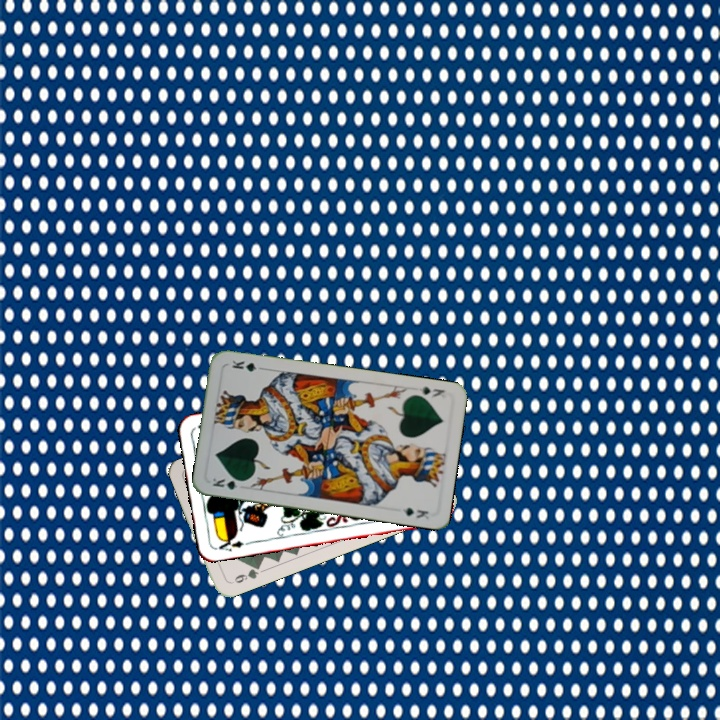EA: (215, 533, 246, 554)
G9: (226, 561, 263, 586)
GK: (208, 473, 248, 493), (415, 382, 447, 400)
